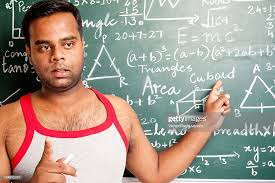Indian_Male: (29, 4, 87, 84)
